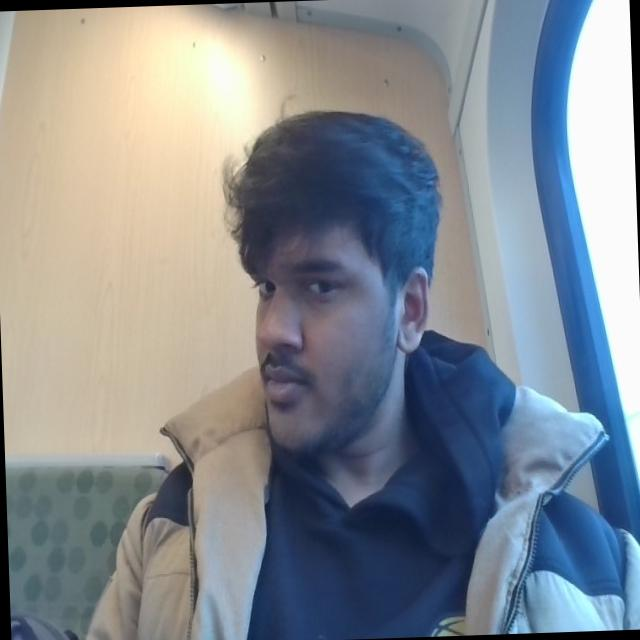no hat: (187, 50, 449, 204)
